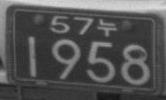1: (18, 36, 44, 77)
5: (86, 40, 116, 84), (49, 14, 70, 34)
7: (73, 15, 93, 35)
8: (120, 43, 151, 86)
9: (51, 38, 82, 79)
누: (96, 17, 117, 37)
